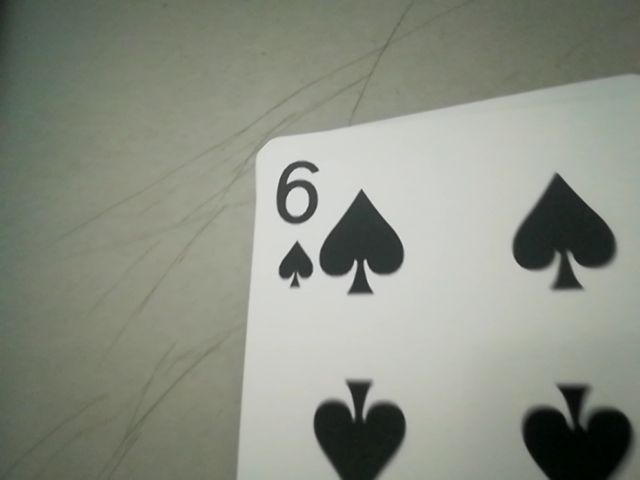ht 6: (258, 149, 336, 295)
